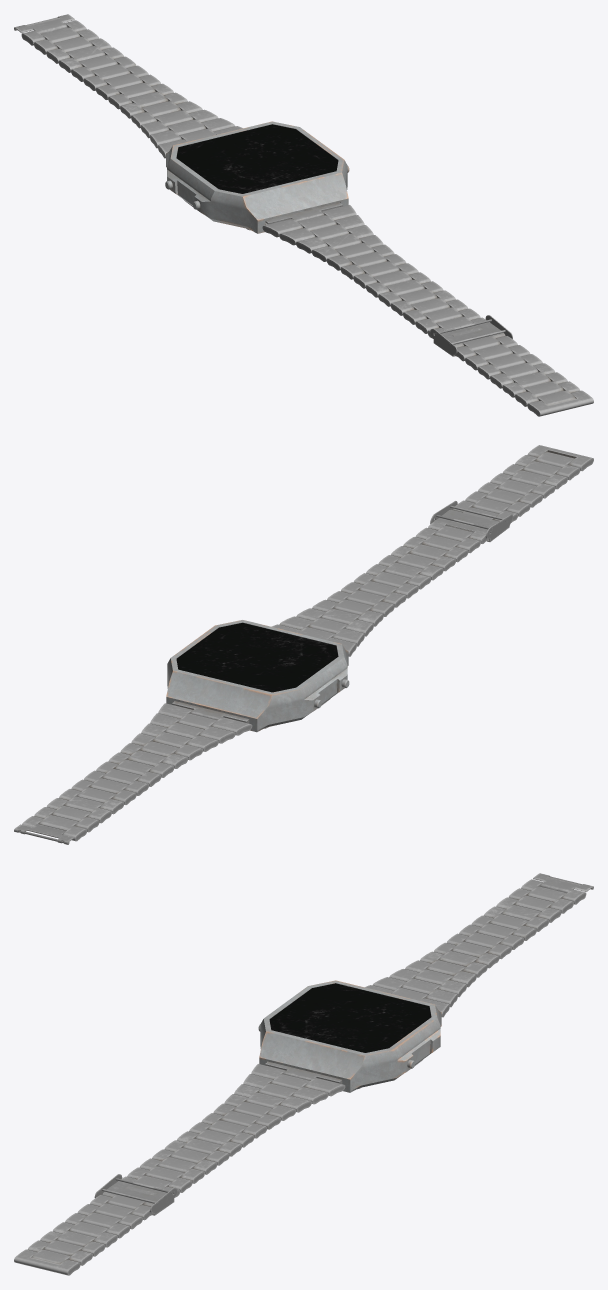
Rendered from relogio_pulso.glb.
3 views of the same model, one above another, from view 1: azimuth 30°, elevation 25°; view 2: azimuth 150°, elevation 25°; view 3: azimuth 330°, elevation 25° (orthographic).
Parts seen in each view (by area): view 1: digital_wrist_watch_strap_b, digital_wrist_watch, digital_wrist_watch_strap_a, digital_wrist_watch_clasp; view 2: digital_wrist_watch_strap_b, digital_wrist_watch, digital_wrist_watch_strap_a, digital_wrist_watch_clasp; view 3: digital_wrist_watch_strap_b, digital_wrist_watch, digital_wrist_watch_strap_a, digital_wrist_watch_clasp.
Boxes of the visible parts, x1,y1,x2,y2 form: digital_wrist_watch_strap_b: (262, 202, 593, 416); digital_wrist_watch: (165, 121, 349, 233); digital_wrist_watch_strap_a: (21, 20, 242, 158); digital_wrist_watch_clasp: (14, 14, 74, 33); digital_wrist_watch_strap_b: (271, 445, 593, 656); digital_wrist_watch: (166, 620, 349, 732); digital_wrist_watch_strap_a: (22, 701, 252, 841); digital_wrist_watch_clasp: (14, 824, 74, 844); digital_wrist_watch_strap_b: (14, 1061, 345, 1275); digital_wrist_watch: (258, 980, 441, 1092); digital_wrist_watch_strap_a: (365, 879, 586, 1017); digital_wrist_watch_clasp: (533, 873, 593, 892).
Size of the model in its own units: 0.0365 by 0.00835 by 0.2172.
Materials: 2 (2 with a texture image).
